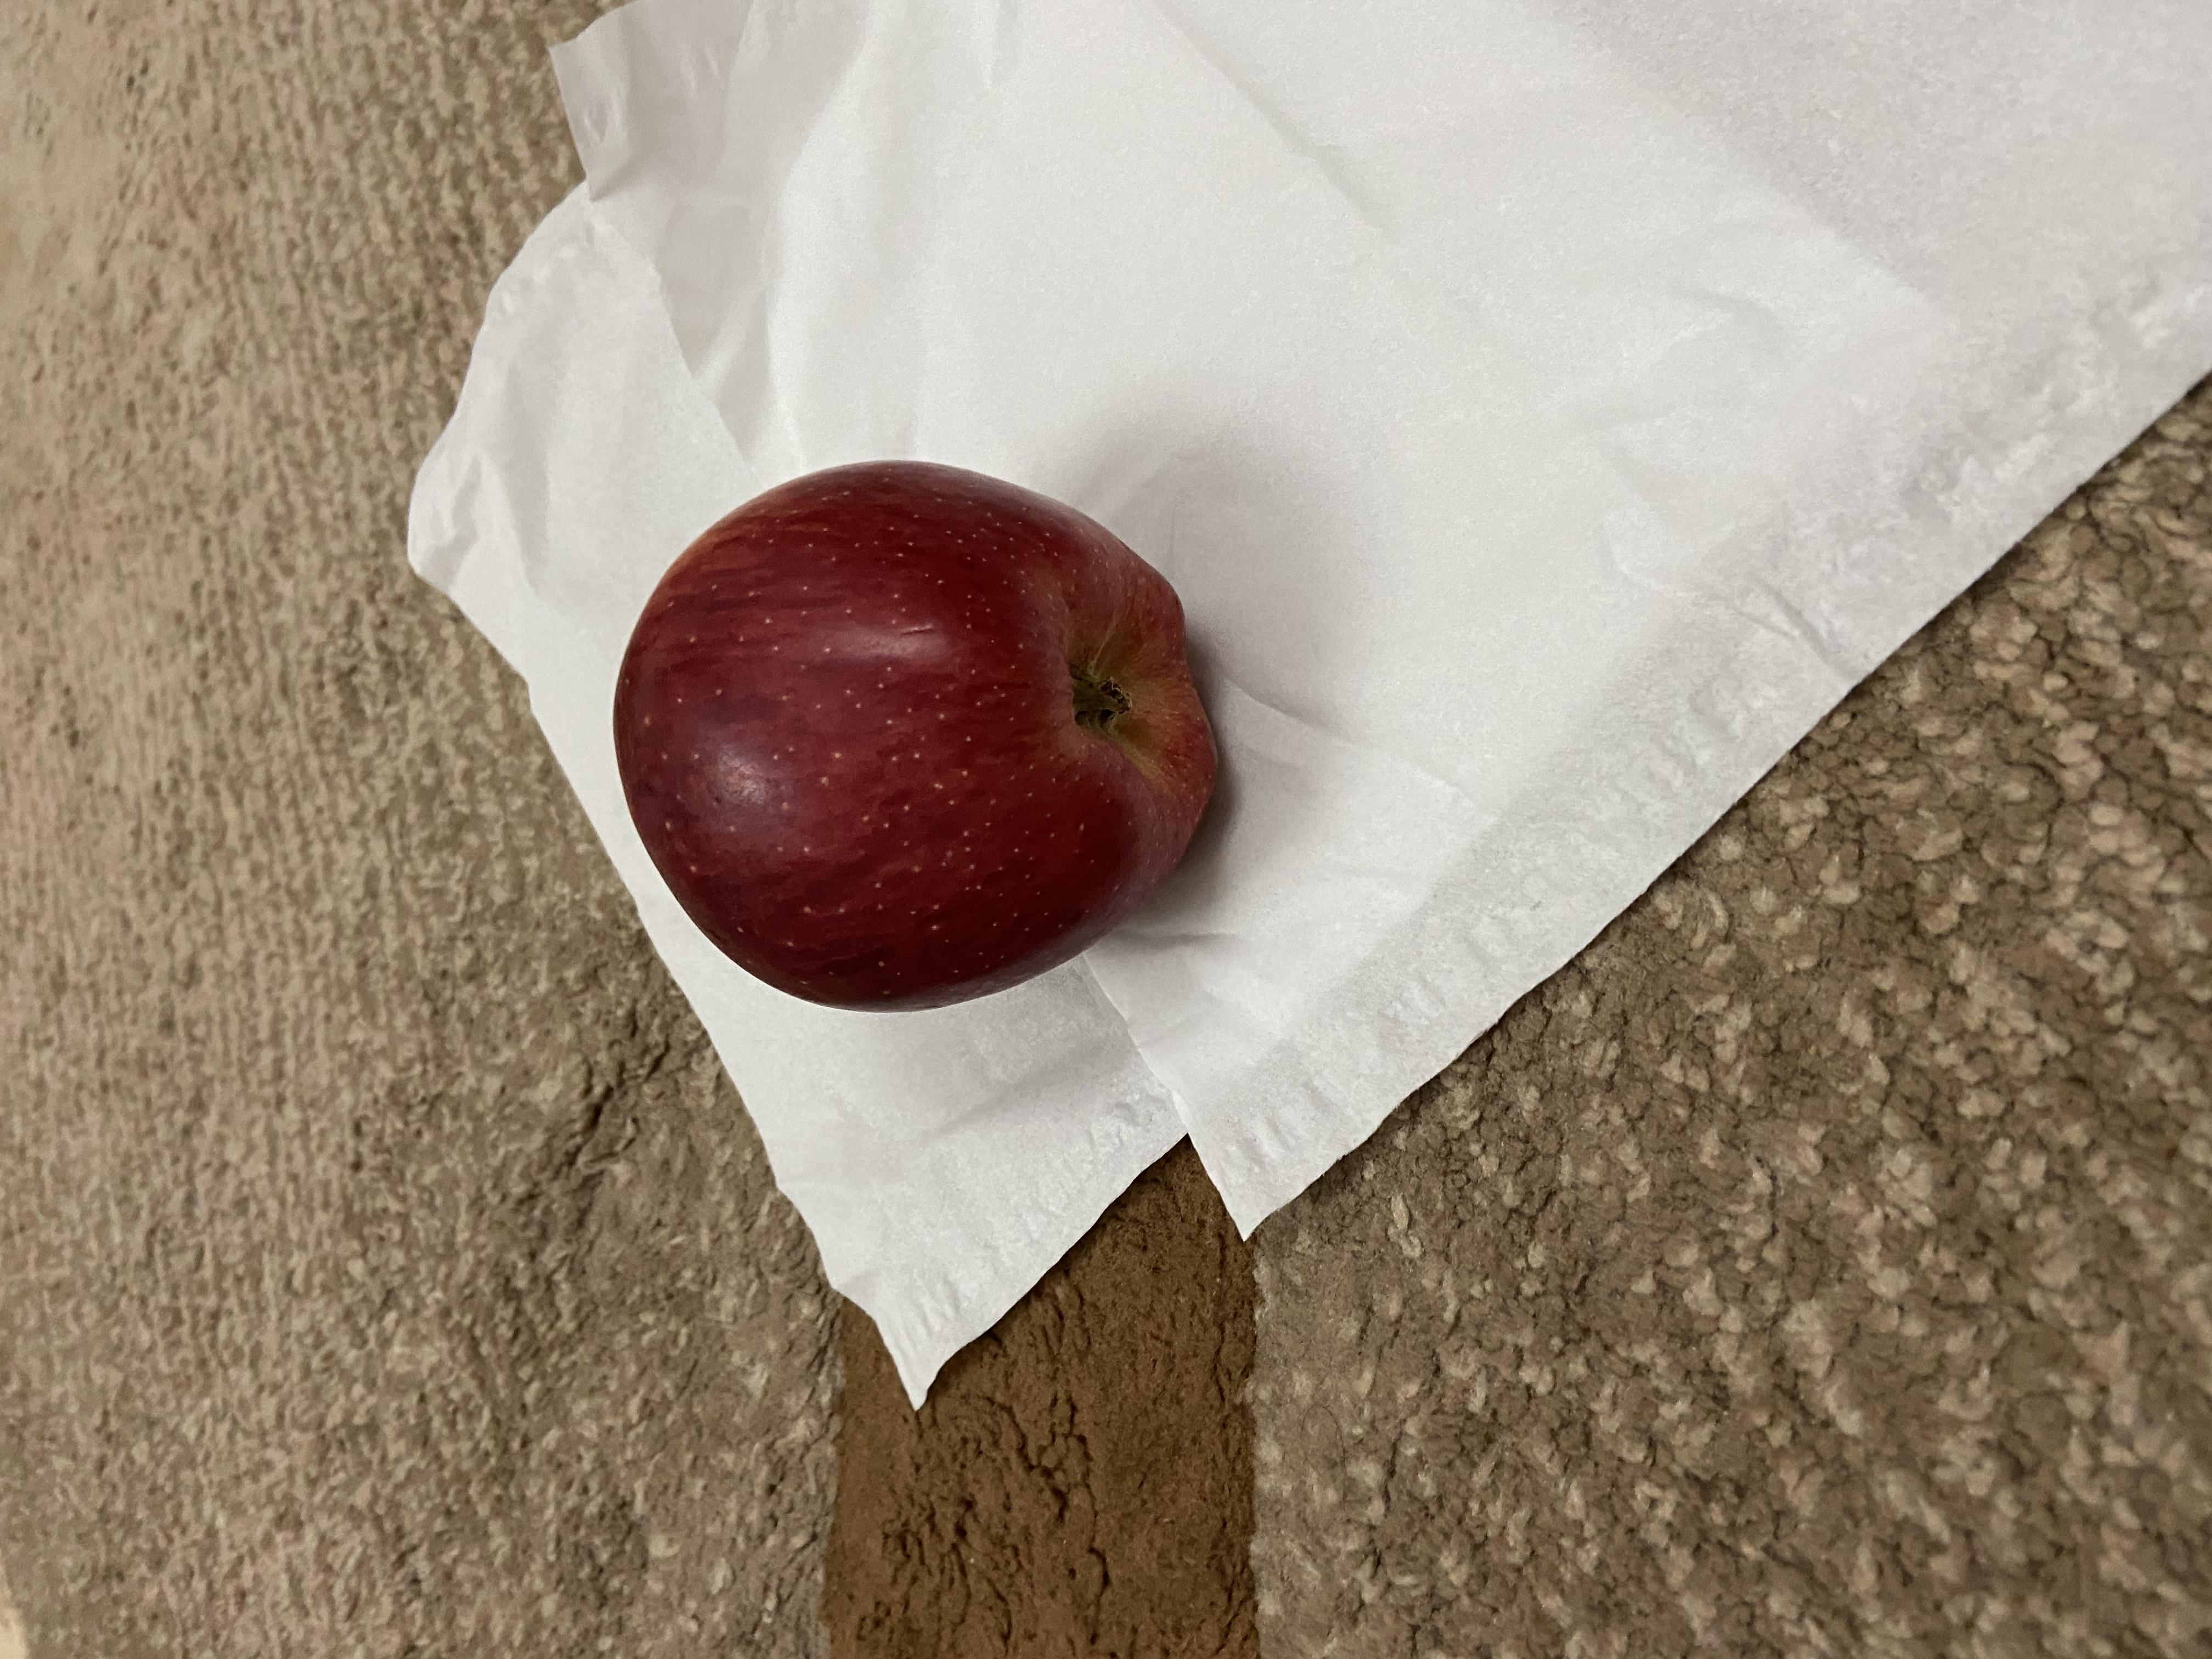Apple: (845, 453, 1609, 925)
